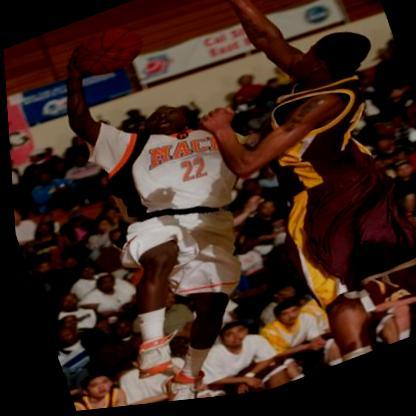basketball: (64, 20, 146, 88)
